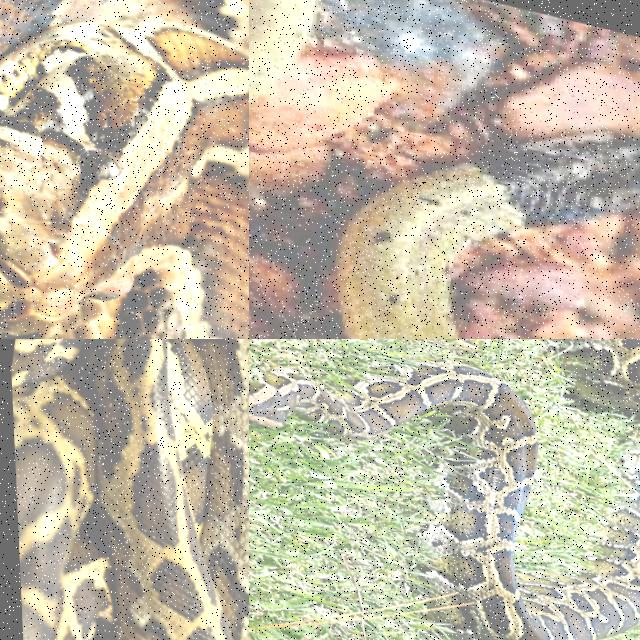Calliophis maculiceps: (336, 134, 639, 338)
Python bivittatus: (249, 362, 639, 639), (0, 0, 248, 338), (11, 339, 248, 639)
snake: (249, 362, 639, 639), (0, 0, 248, 338), (11, 339, 248, 639), (336, 134, 639, 338)
